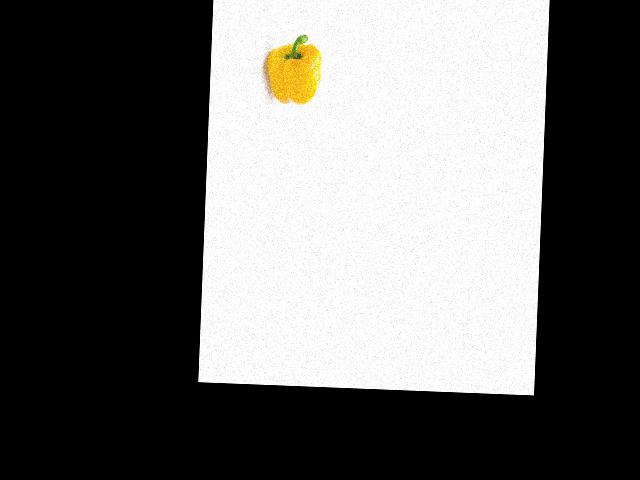bell_pepper: (265, 27, 325, 107)
